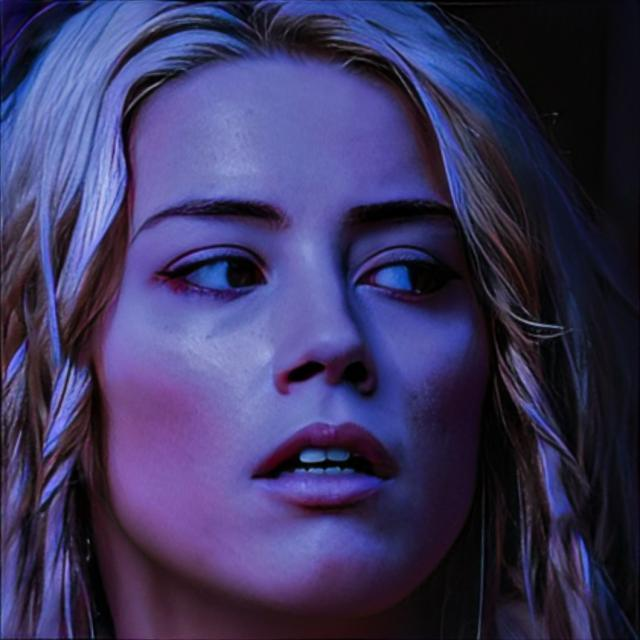Fear: (87, 48, 496, 623)
